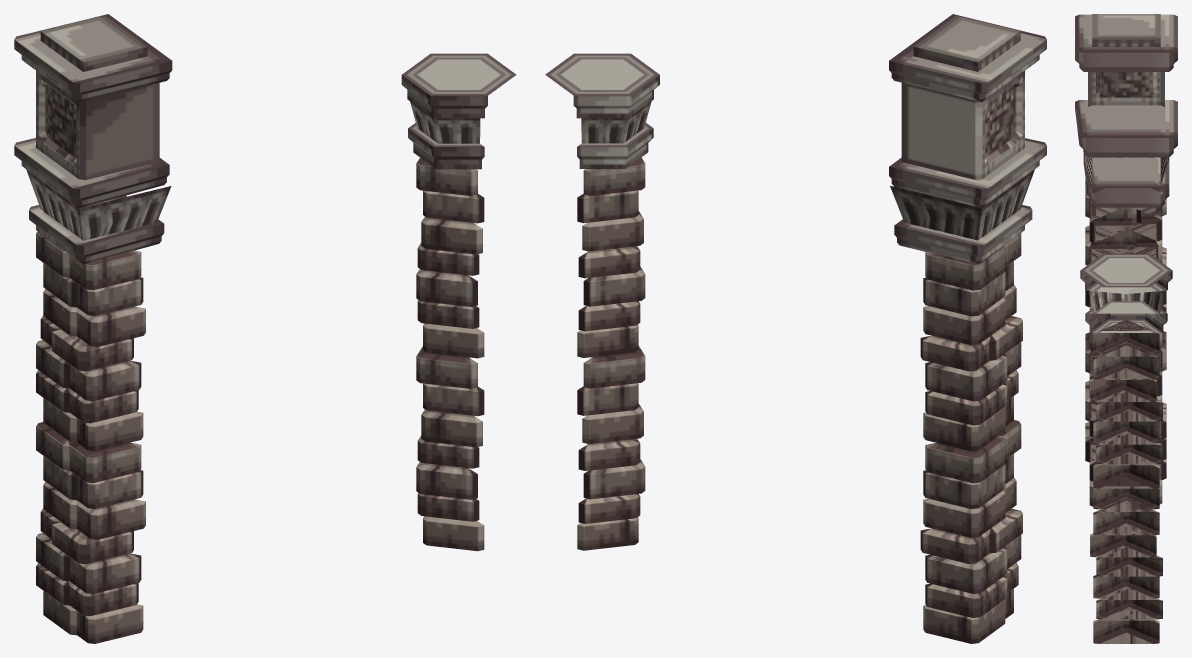
Rendered from EnvMdrMD_City_A_Pillar_A_Large_A.FBX.
3 renders of one model, left to right at view 1: azimuth 30°, elevation 25°; view 2: azimuth 150°, elevation 25°; view 3: azimuth 270°, elevation 25°, orthographic. The views are drawn at different scales.
Visible parts, largest first — view 1: EnvMdrMD_City_A_Pillar_A_Large_A, EnvMdrMD_City_A_Pillar_A_Small_A; view 2: EnvMdrMD_City_A_Pillar_A_Large_A, EnvMdrMD_City_A_Pillar_A_Small_A; view 3: EnvMdrMD_City_A_Pillar_A_Small_A, EnvMdrMD_City_A_Pillar_A_Large_A.
Part boxes in pixels (box(x1,y1,x2,y2)): EnvMdrMD_City_A_Pillar_A_Large_A: box(14, 14, 172, 643); EnvMdrMD_City_A_Pillar_A_Small_A: box(401, 53, 516, 551); EnvMdrMD_City_A_Pillar_A_Large_A: box(889, 14, 1046, 643); EnvMdrMD_City_A_Pillar_A_Small_A: box(545, 53, 659, 550); EnvMdrMD_City_A_Pillar_A_Small_A: box(1080, 253, 1172, 643); EnvMdrMD_City_A_Pillar_A_Large_A: box(1075, 14, 1177, 506).
Bounding box in the file's own units: 498 × 610 × 120.
Materials: 1 (1 with a texture image).
